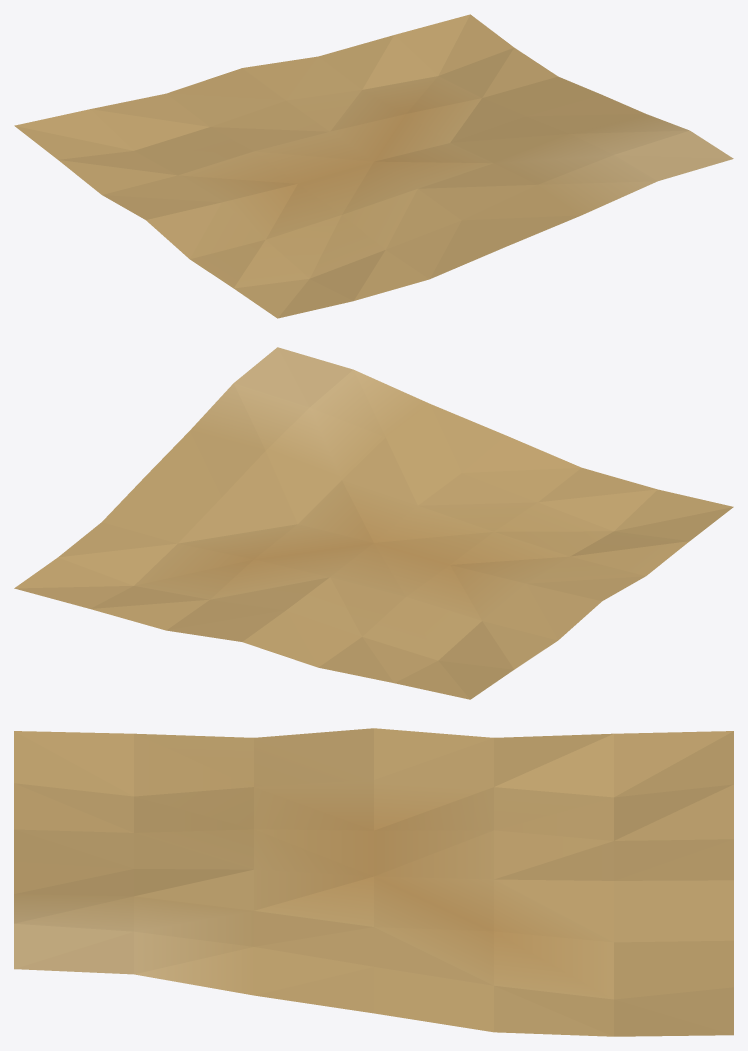
Rendered from Mixed_Ground_07.fbx.
3 renders of one model, top to bottom at view 1: azimuth 30°, elevation 25°; view 2: azimuth 150°, elevation 25°; view 3: azimuth 270°, elevation 25°, orthographic. The views are drawn at different scales.
Visible parts, largest first — view 1: Ground_07.001; view 2: Ground_07.001; view 3: Ground_07.001.
Boxes of the visible parts, left/top/right/bottom form: Ground_07.001: left=14, top=14, right=733, bottom=318; Ground_07.001: left=14, top=347, right=733, bottom=699; Ground_07.001: left=14, top=728, right=733, bottom=1036.
Size of the model in its own units: 1000 by 125 by 1000.
